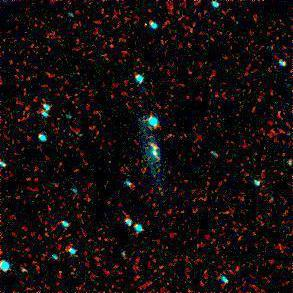star: (141, 132, 171, 162)
